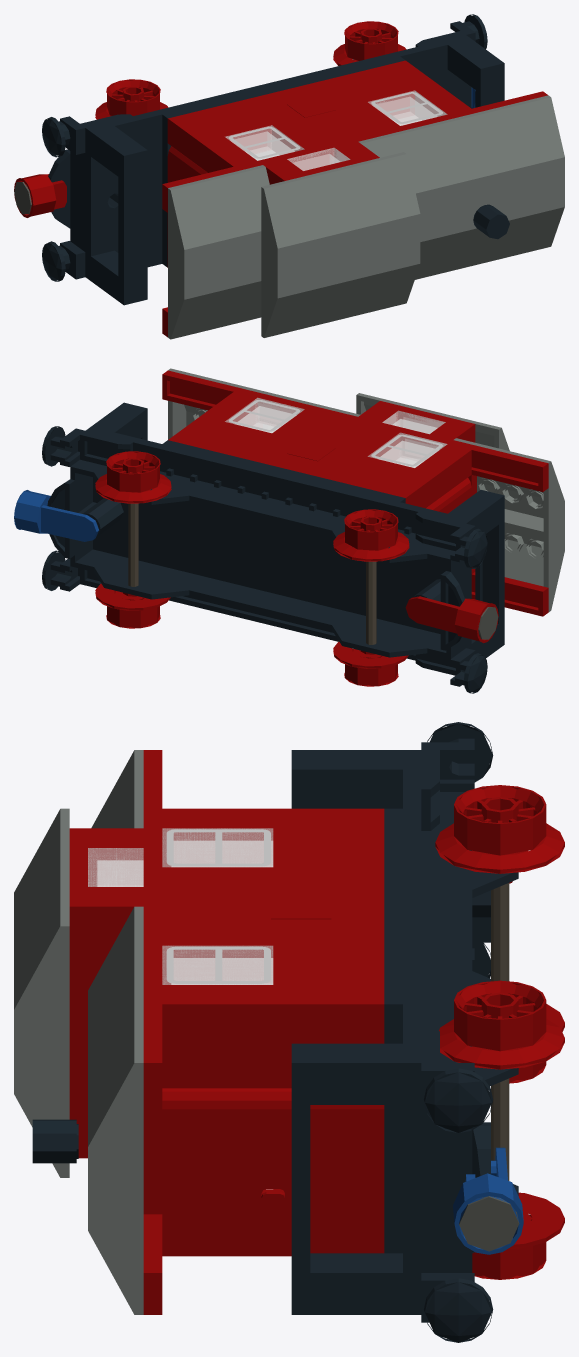
The model's file is passenger-wagon.glb.
3 views of the same model, one above another, from view 1: azimuth 30°, elevation 25°; view 2: azimuth 150°, elevation 25°; view 3: azimuth 270°, elevation 25° (orthographic). The views are drawn at different scales.
Bounding box in the file's own units: 157 × 52 × 95.2.
